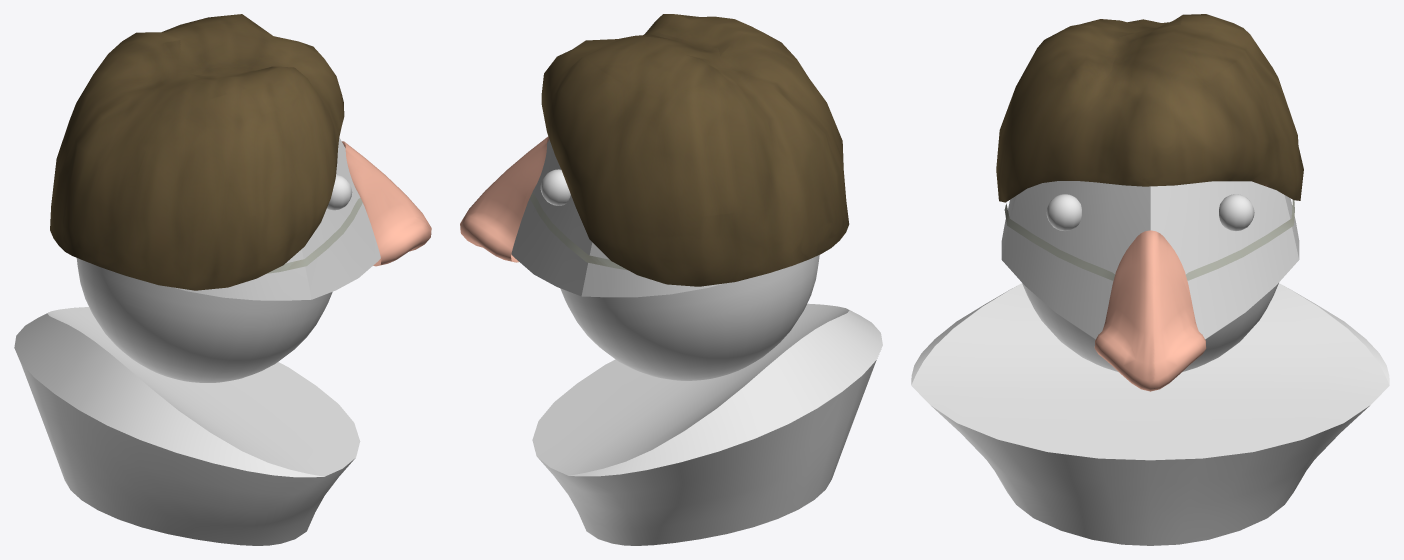
File: PseudoBot03_wig.dae
3 renders of one model, left to right at view 1: azimuth 30°, elevation 25°; view 2: azimuth 150°, elevation 25°; view 3: azimuth 270°, elevation 25°, orthographic. The views are drawn at different scales.
Parts seen in each view (by area): view 1: Accessories, Shoulders, Jaw, Head, RightEye; view 2: Accessories, Shoulders, Jaw, Head, LeftEye; view 3: Shoulders, Accessories, Head, Jaw, LeftEye, RightEye.
Boxes of the visible parts, x1,y1,x2,y2 form: Accessories: [50, 14, 431, 290]; Shoulders: [14, 307, 360, 545]; Jaw: [76, 258, 332, 382]; Head: [173, 137, 380, 300]; RightEye: [327, 174, 352, 210]; Accessories: [460, 14, 849, 286]; Shoulders: [532, 303, 882, 545]; Jaw: [560, 255, 819, 380]; Head: [511, 139, 722, 297]; LeftEye: [540, 169, 570, 205]; Shoulders: [911, 283, 1389, 545]; Accessories: [996, 14, 1303, 391]; Head: [1001, 181, 1299, 339]; Jaw: [1022, 283, 1278, 372]; LeftEye: [1219, 194, 1254, 230]; RightEye: [1046, 194, 1081, 230].
Size of the model in its own units: 120 by 129 by 141.
Materials: 5 (1 with a texture image).
